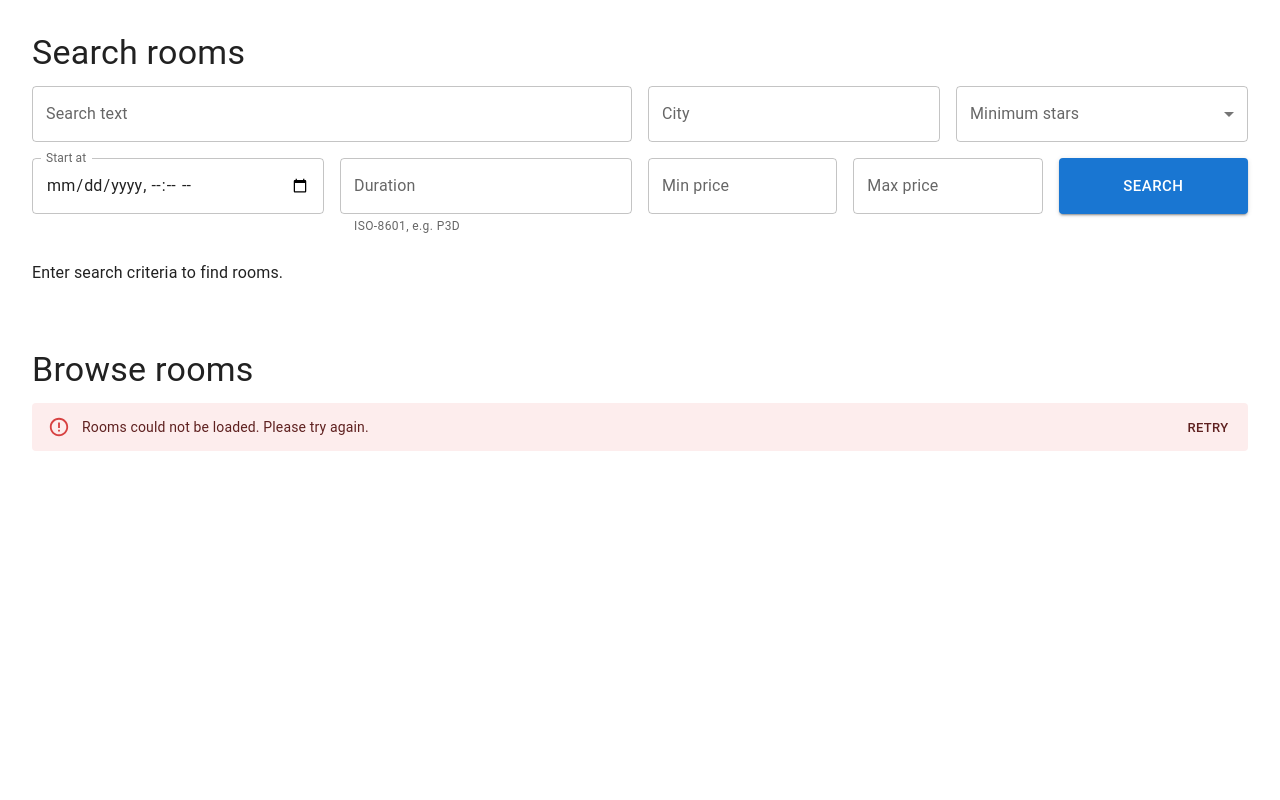
Test: Browse Rooms journey › shows failure feedback without rooms and retries with a new GET /rooms request
Expected: the message shows "Rooms could not be loaded", [82, 419, 369, 435]
Click the button "Retry": (1208, 428) [1176, 413, 1240, 444]
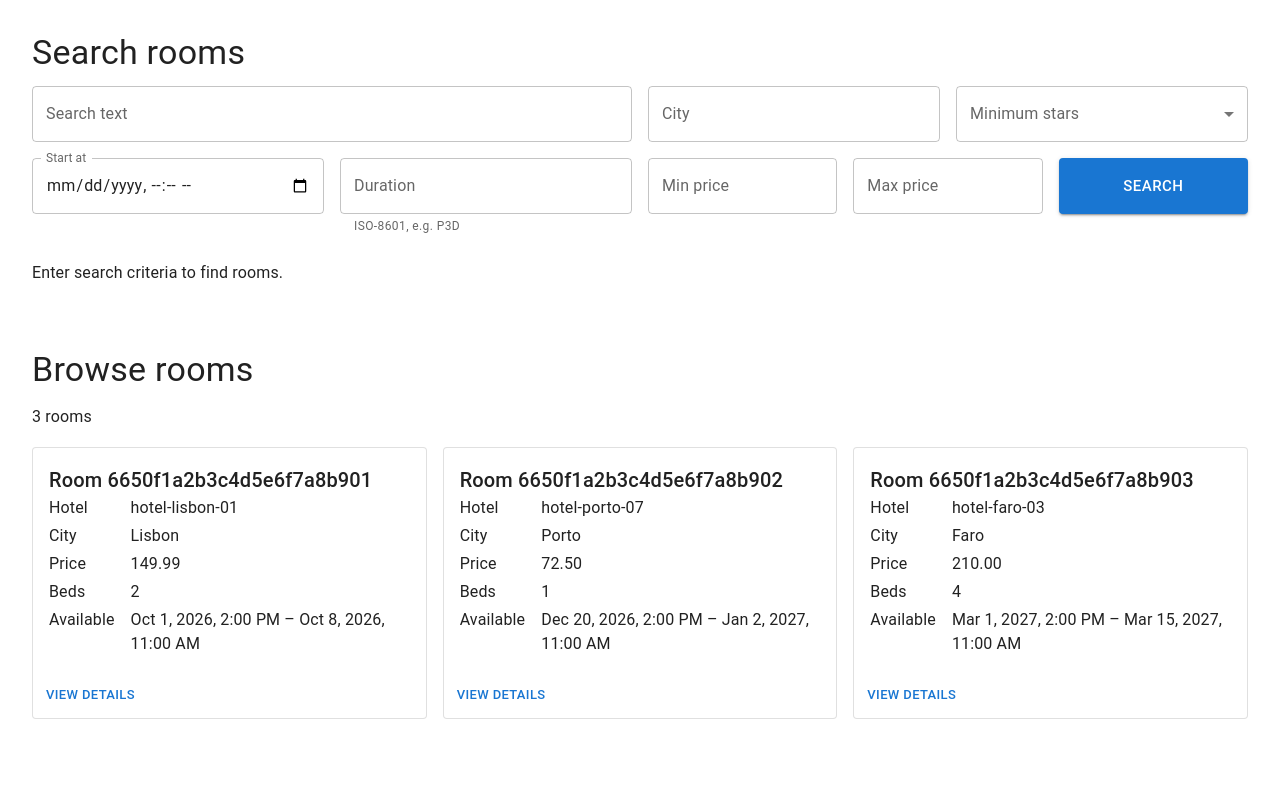
Expected: the text "3 rooms" is shown, [32, 407, 92, 426]
Expected: the message "Rooms could not be loaded. Please try again. Retry" is gone
